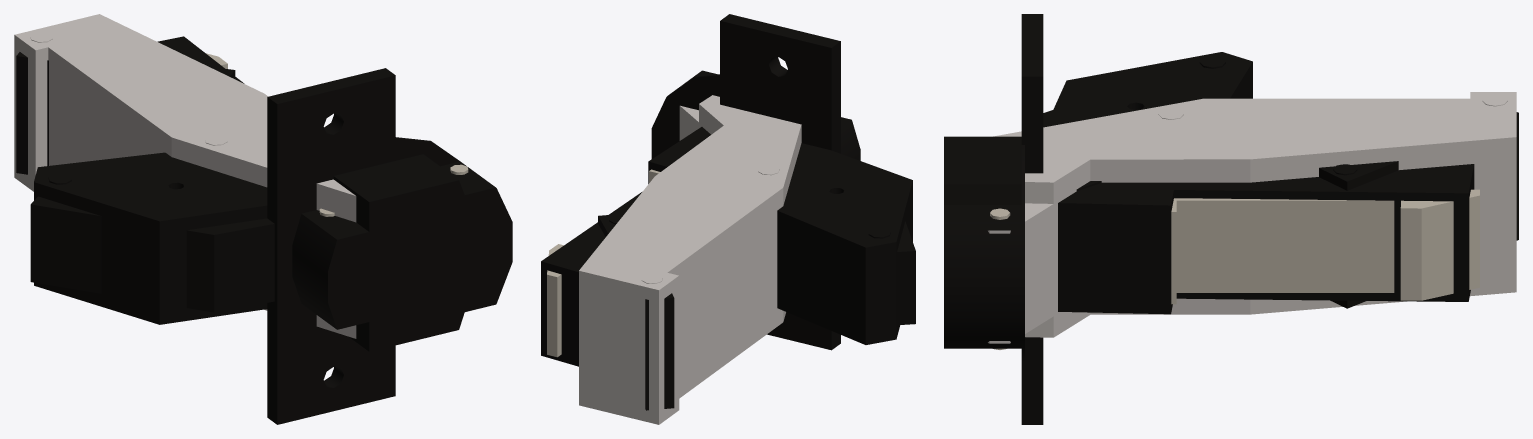
The picture shows the model from 3 angles, left to right: view 1: azimuth 30°, elevation 25°; view 2: azimuth 150°, elevation 25°; view 3: azimuth 270°, elevation 25°; orthographic projection. The views are drawn at different scales.
Parts seen in each view (by area): view 1: bau0079302490-1, bau0079291413-1, bau0079298416-1, bau0079324562-1, bau0082114196-1, bau0079262819-1; view 2: bau0079291413-1, bau0079298416-1, bau0079302490-1, bau0079262819-1, bau0082114196-1, bau0079324562-1, bau0025540121-1; view 3: bau0079291413-1, bau0025540121-1, bau0079262819-1, bau0079302490-1, bau0079298416-1, bau0082114196-1.
Boxes of the visible parts, <box> form: bau0079302490-1: <box>267,68,512,424</box>; bau0079291413-1: <box>14,14,356,338</box>; bau0079298416-1: <box>34,152,267,324</box>; bau0079324562-1: <box>30,196,274,312</box>; bau0082114196-1: <box>16,52,235,174</box>; bau0079262819-1: <box>157,36,244,83</box>; bau0079291413-1: <box>579,95,801,424</box>; bau0079298416-1: <box>777,143,912,344</box>; bau0079302490-1: <box>651,14,860,350</box>; bau0079262819-1: <box>541,127,710,366</box>; bau0082114196-1: <box>598,213,674,410</box>; bau0079324562-1: <box>897,221,915,325</box>; bau0025540121-1: <box>547,169,660,357</box>; bau0079291413-1: <box>988,92,1516,343</box>; bau0025540121-1: <box>1171,189,1479,304</box>; bau0079262819-1: <box>1058,164,1474,314</box>; bau0079302490-1: <box>944,14,1043,424</box>; bau0079298416-1: <box>1045,52,1252,190</box>; bau0082114196-1: <box>1319,112,1518,308</box>.
Bounding box in the file's own units: 67.42 × 57 × 85.25.
